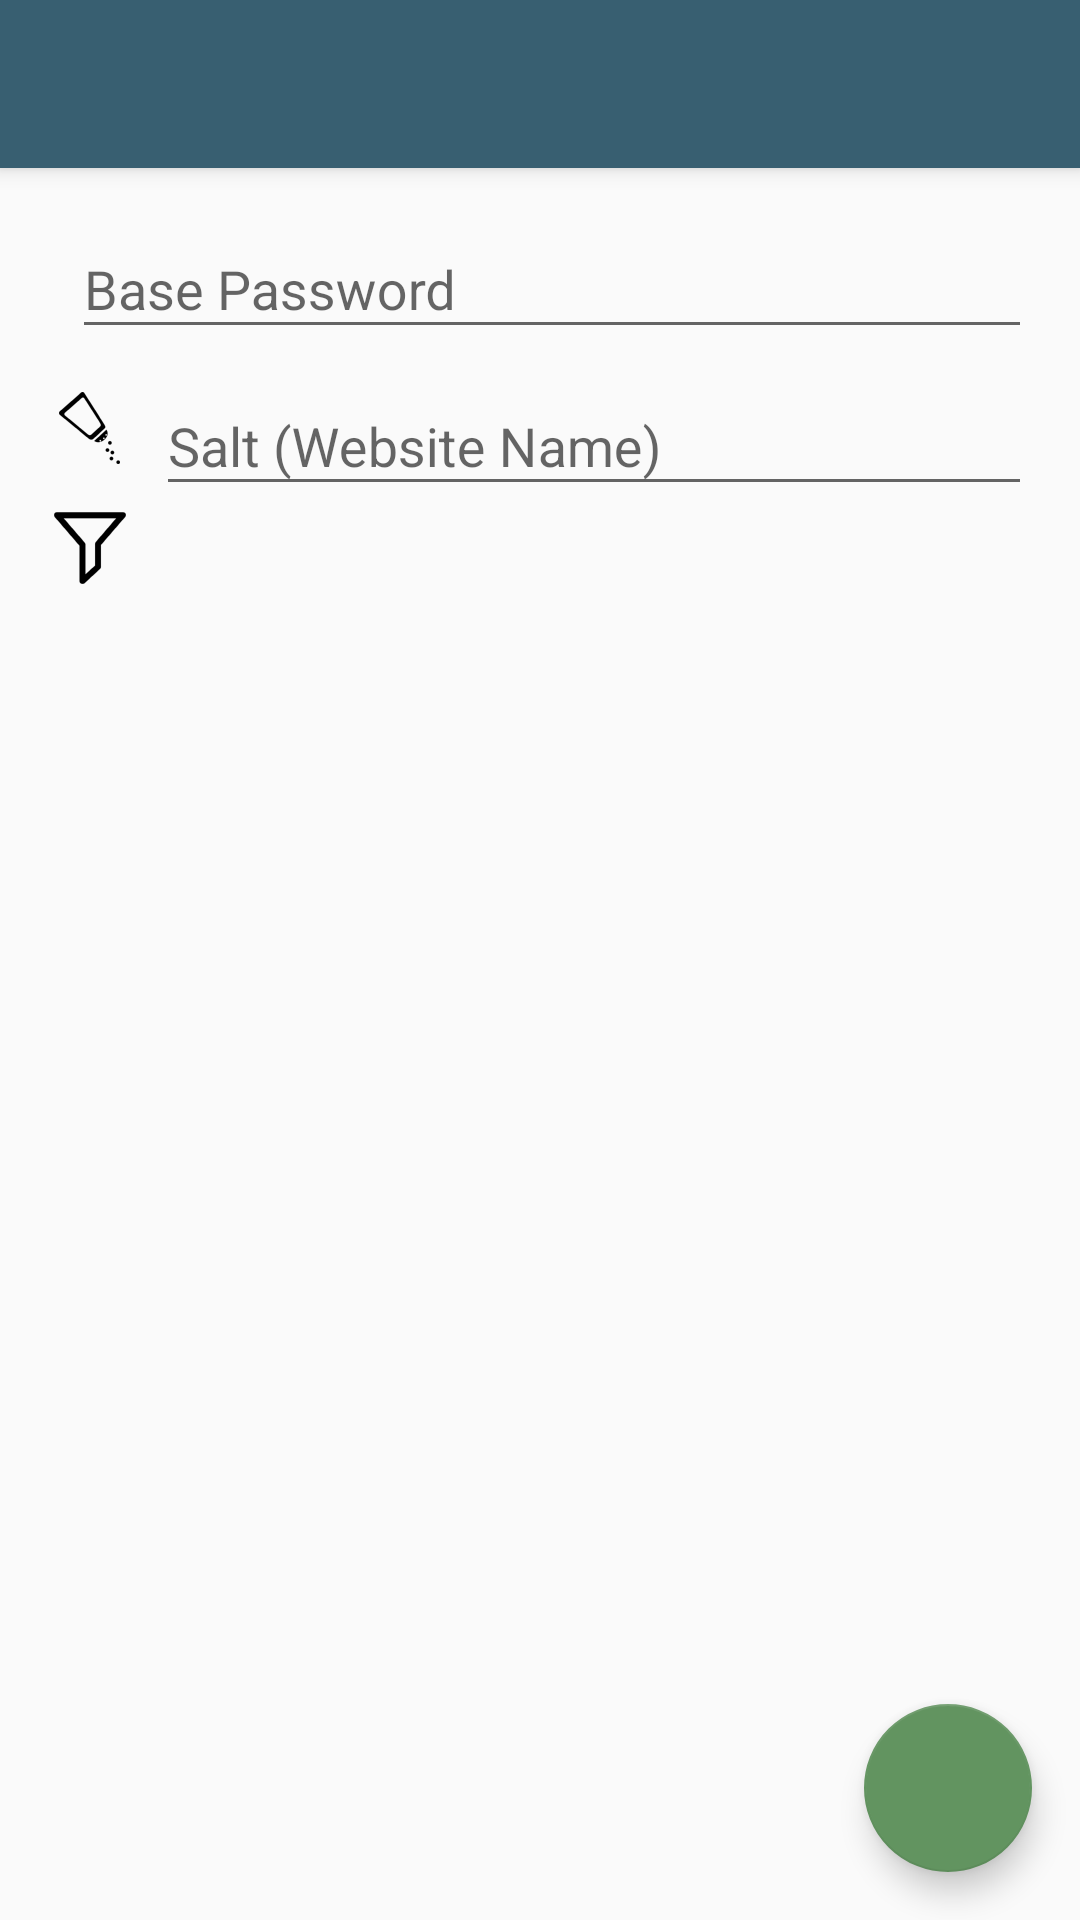

Icons on this 1080×1920 Android screen, each with its box as {"x1": x1, "y1": y1, "x2": x2, "y2": y2}:
funnel: {"x1": 54, "y1": 512, "x2": 126, "y2": 584}
